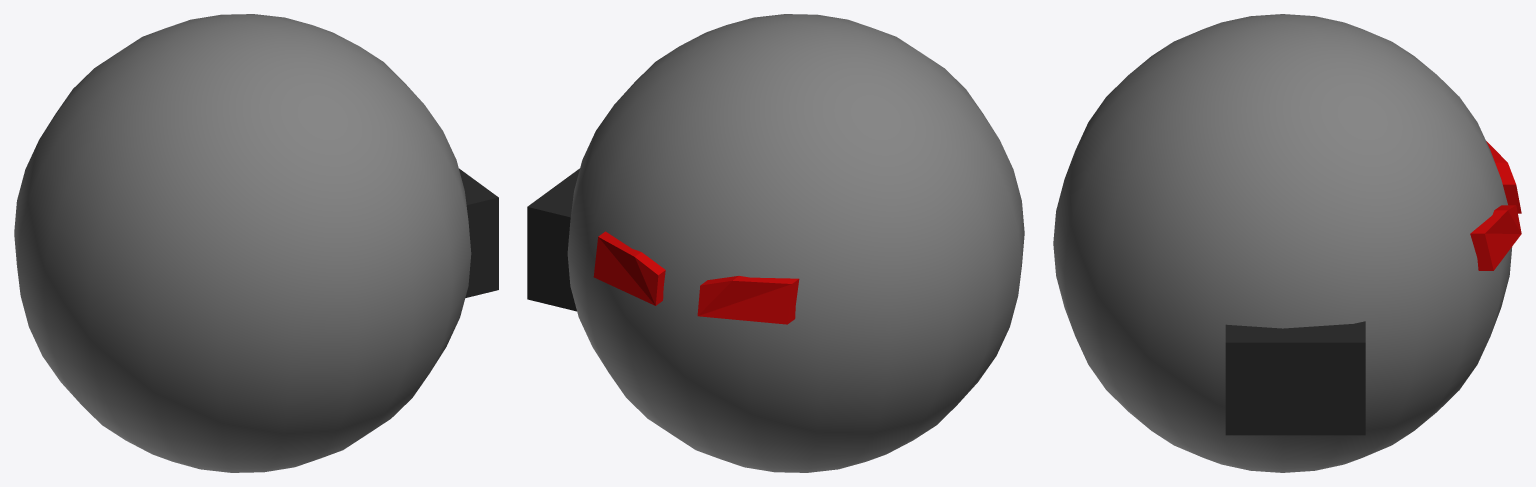
File: enemy_gatling_body.obj
3 renders of one model, left to right at view 1: azimuth 30°, elevation 25°; view 2: azimuth 150°, elevation 25°; view 3: azimuth 270°, elevation 25°, orthographic.
Visible parts, largest first — view 1: body, mount; view 2: body, eye, mount; view 3: body, mount, eye.
Part boxes in pixels (<box>): body: <box>14,14,471,472</box>; mount: <box>459,168,498,297</box>; body: <box>567,14,1024,472</box>; eye: <box>593,231,799,324</box>; mount: <box>527,168,579,311</box>; body: <box>1053,14,1512,472</box>; mount: <box>1225,321,1365,435</box>; eye: <box>1470,141,1521,270</box>.
Size of the model in its own units: 0.7712 by 0.72 by 0.7344.
